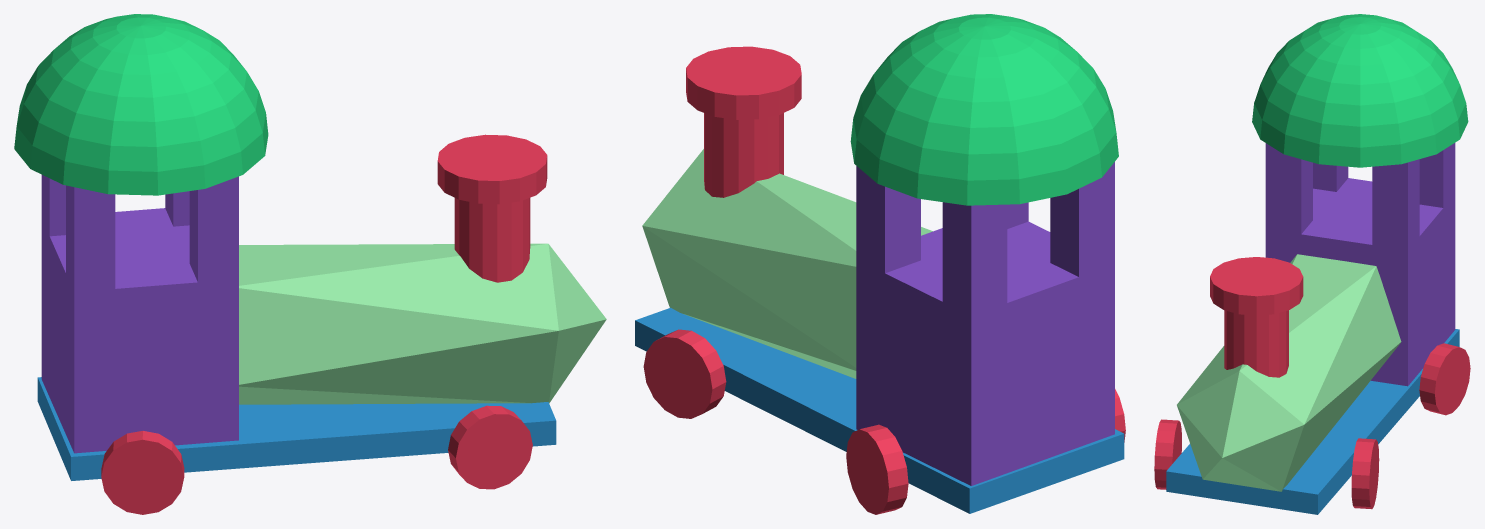
File: chuchu-train.fbx
3 views of the same model, side by side, from view 1: azimuth 30°, elevation 25°; view 2: azimuth 150°, elevation 25°; view 3: azimuth 270°, elevation 25° (orthographic). The views are drawn at different scales.
Parts seen in each view (by area): view 1: engine, schaftnerhaus, roof, base, exhaust2, Cylinder.003, exhaust1, Cylinder.001; view 2: schaftnerhaus, roof, engine, base, exhaust2, exhaust1, Cylinder.002, Cylinder.004; view 3: engine, schaftnerhaus, roof, base, exhaust2, exhaust1, Cylinder.004, Cylinder.002, Cylinder.001.
Boxes of the visible parts, <box> form: engine: <box>239,243,606,404</box>; schaftnerhaus: <box>41,175,238,453</box>; roof: <box>14,14,268,195</box>; base: <box>37,377,556,480</box>; exhaust2: <box>437,134,547,204</box>; Cylinder.003: <box>101,431,184,514</box>; exhaust1: <box>454,198,530,282</box>; Cylinder.001: <box>448,405,532,489</box>; schaftnerhaus: <box>856,162,1114,485</box>; roof: <box>850,14,1118,205</box>; engine: <box>642,149,932,378</box>; base: <box>635,307,1124,513</box>; exhaust2: <box>686,46,801,119</box>; exhaust1: <box>704,113,783,197</box>; Cylinder.002: <box>643,329,726,418</box>; Cylinder.004: <box>846,424,908,514</box>; engine: <box>1177,254,1401,491</box>; schaftnerhaus: <box>1265,143,1455,386</box>; roof: <box>1252,14,1468,167</box>; base: <box>1166,329,1459,514</box>; exhaust2: <box>1210,257,1303,315</box>; exhaust1: <box>1224,310,1288,377</box>; Cylinder.004: <box>1419,343,1470,415</box>; Cylinder.002: <box>1351,438,1379,509</box>; Cylinder.001: <box>1154,419,1181,489</box>.
Size of the model in its own units: 269 by 225 by 176.
